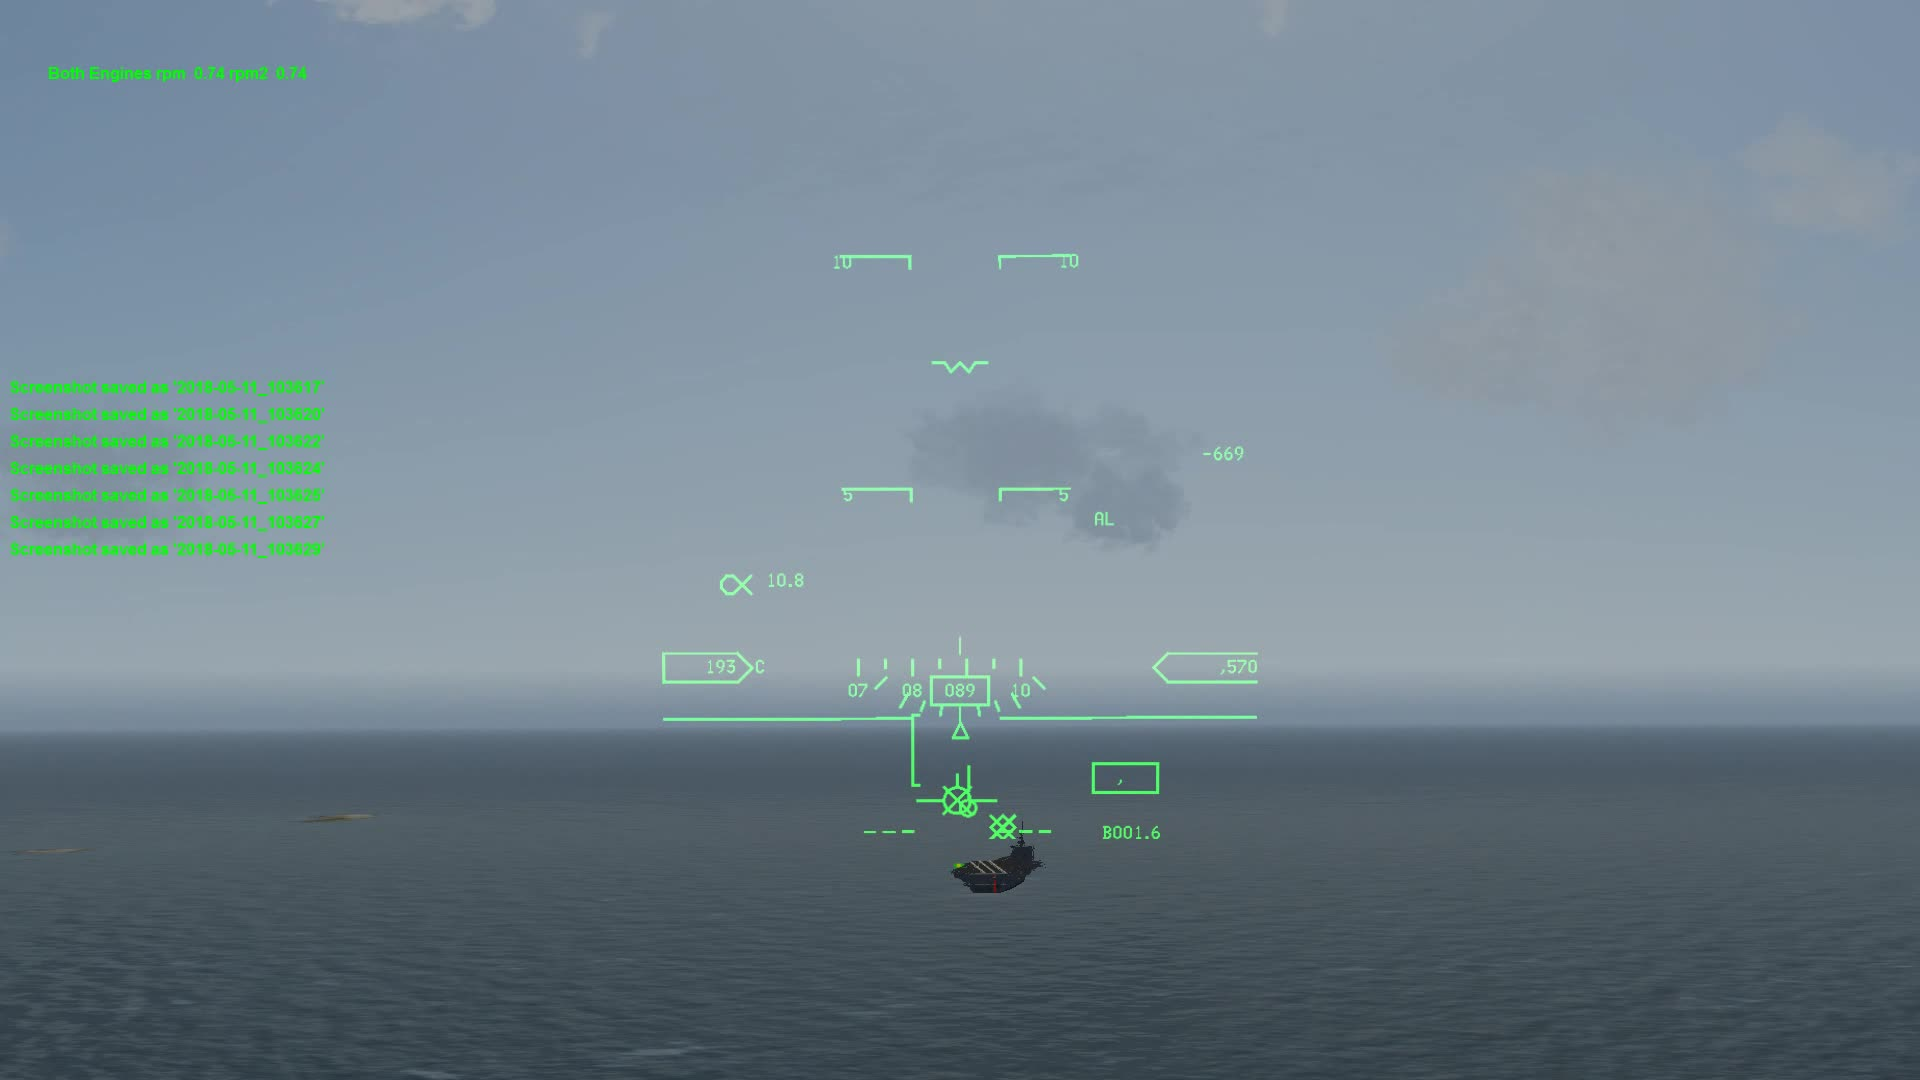speed vector: (922, 771, 1000, 818)
